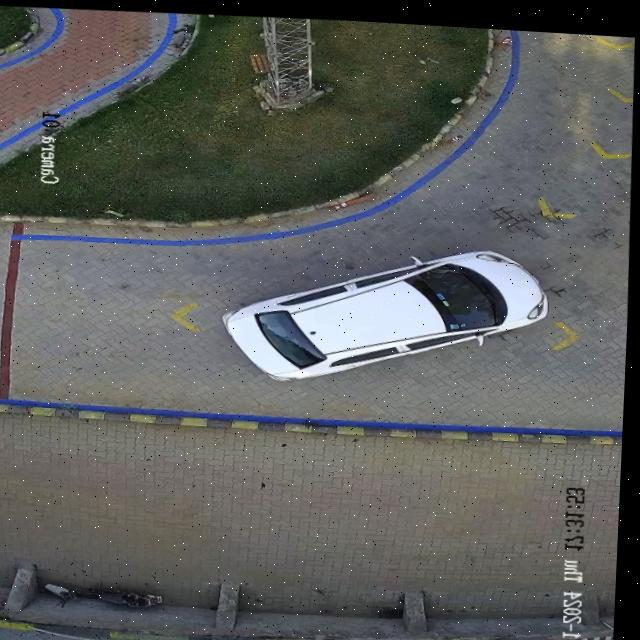car: (223, 244, 549, 376)
